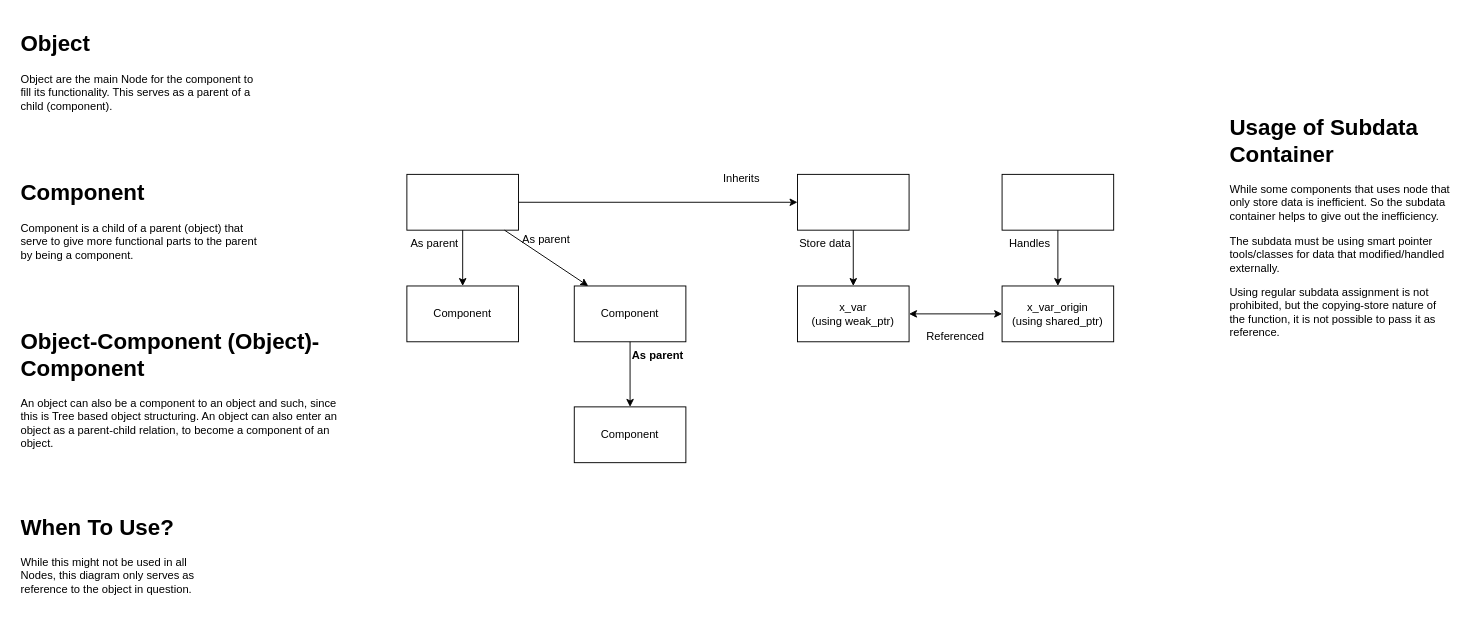
Some shapes in this 1473 by 636 pixel diagram are drawn without their labels. Here are the shapes that lost their labels. From the top down, the centre of each, then its label:
At point 462,201: "Object".
At point 853,201: "subdata_container".
At point 1057,201: "Data Handler".
